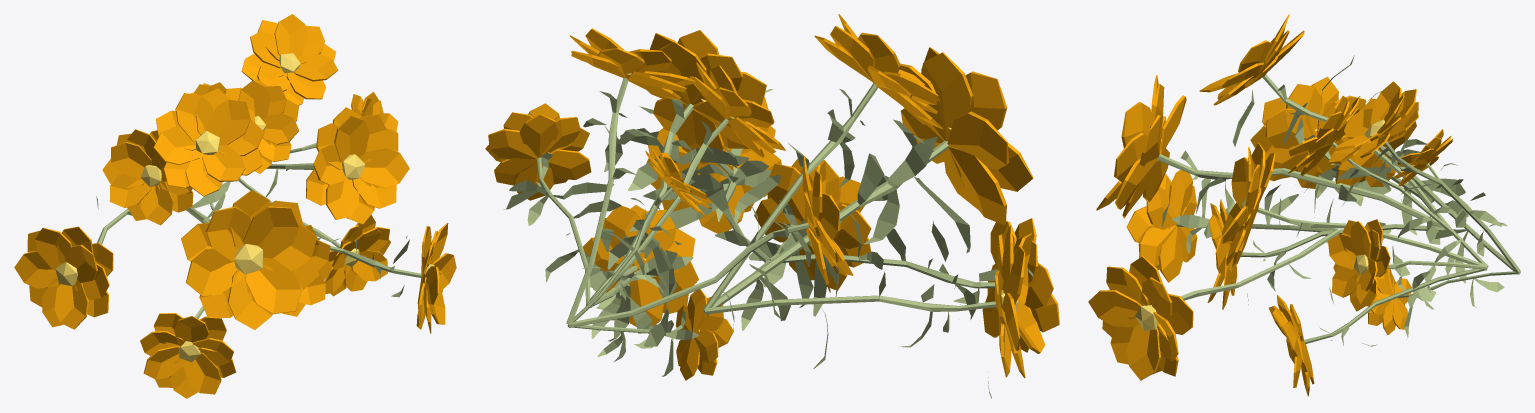
Rendered from flowers.glb.
3 views of the same model, side by side, from view 1: azimuth 30°, elevation 25°; view 2: azimuth 150°, elevation 25°; view 3: azimuth 270°, elevation 25° (orthographic). The views are drawn at different scales.
Visible parts, largest first — view 1: node_calendula (12)_-1528842, node_calendula_-1528750, node_calendula (10)_-1528824, node_calendula (9)_-1528816, node_calendula (13)_-1528850, node_calendula (3)_-1528776, node_calendula (4)_-1528786, node_calendula (7)_-1528810, node_calendula (14)_-1528858, node_calendula (2)_-1528770, node_calendula (11)_-1528832, node_calendula (1)_-1528762; view 2: node_calendula (12)_-1528842, node_calendula_-1528750, node_calendula (1)_-1528762, node_calendula (10)_-1528824, node_calendula (11)_-1528832, node_calendula (9)_-1528816, node_calendula (7)_-1528810, node_calendula (3)_-1528776, node_calendula (4)_-1528786, node_calendula (13)_-1528850, node_calendula (14)_-1528858, node_calendula (2)_-1528770 (+2 smaller); view 3: node_calendula (14)_-1528858, node_calendula (12)_-1528842, node_calendula (13)_-1528850, node_calendula (9)_-1528816, node_calendula (3)_-1528776, node_calendula_-1528750, node_calendula (1)_-1528762, node_calendula (10)_-1528824, node_calendula (4)_-1528786, node_calendula (2)_-1528770, node_calendula (7)_-1528810, node_calendula (6)_-1528802 (+2 smaller).
Boxes of the visible parts, bbox=[...] form: node_calendula (12)_-1528842: bbox=[181, 181, 319, 329]; node_calendula_-1528750: bbox=[266, 107, 409, 224]; node_calendula (10)_-1528824: bbox=[153, 88, 264, 196]; node_calendula (9)_-1528816: bbox=[14, 196, 131, 329]; node_calendula (13)_-1528850: bbox=[140, 306, 236, 398]; node_calendula (3)_-1528776: bbox=[241, 14, 338, 105]; node_calendula (4)_-1528786: bbox=[102, 129, 193, 225]; node_calendula (7)_-1528810: bbox=[238, 163, 390, 296]; node_calendula (14)_-1528858: bbox=[330, 222, 456, 333]; node_calendula (2)_-1528770: bbox=[225, 79, 298, 173]; node_calendula (11)_-1528832: bbox=[194, 193, 332, 316]; node_calendula (1)_-1528762: bbox=[286, 92, 398, 170]; node_calendula (12)_-1528842: bbox=[706, 47, 1033, 316]; node_calendula_-1528750: bbox=[587, 30, 766, 307]; node_calendula (1)_-1528762: bbox=[485, 103, 621, 305]; node_calendula (10)_-1528824: bbox=[703, 14, 943, 310]; node_calendula (11)_-1528832: bbox=[703, 158, 871, 330]; node_calendula (9)_-1528816: bbox=[705, 225, 1044, 398]; node_calendula (7)_-1528810: bbox=[579, 205, 698, 341]; node_calendula (3)_-1528776: bbox=[566, 28, 695, 324]; node_calendula (4)_-1528786: bbox=[569, 156, 853, 346]; node_calendula (13)_-1528850: bbox=[769, 214, 1059, 352]; node_calendula (14)_-1528858: bbox=[643, 89, 781, 262]; node_calendula (2)_-1528770: bbox=[587, 62, 785, 303]; node_calendula (14)_-1528858: bbox=[1088, 229, 1339, 380]; node_calendula (12)_-1528842: bbox=[1096, 75, 1445, 243]; node_calendula (13)_-1528850: bbox=[1126, 170, 1337, 282]; node_calendula (9)_-1528816: bbox=[1250, 77, 1465, 235]; node_calendula (3)_-1528776: bbox=[1328, 81, 1520, 273]; node_calendula_-1528750: bbox=[1221, 142, 1487, 276]; node_calendula (1)_-1528762: bbox=[1328, 219, 1487, 311]; node_calendula (10)_-1528824: bbox=[1199, 14, 1450, 227]; node_calendula (4)_-1528786: bbox=[1328, 98, 1520, 283]; node_calendula (2)_-1528770: bbox=[1288, 95, 1488, 266]; node_calendula (7)_-1528810: bbox=[1269, 268, 1486, 396]; node_calendula (6)_-1528802: bbox=[1368, 257, 1519, 338].
Bounding box in the file's own units: 16.42 × 10.46 × 14.07.
